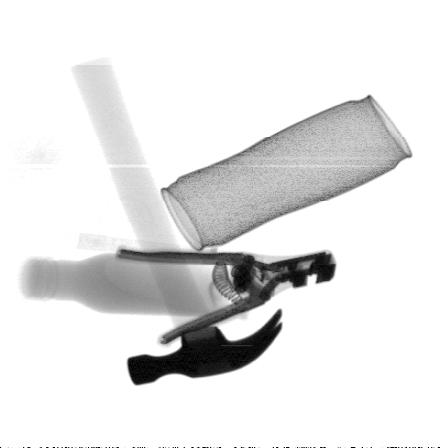Hammer: (69, 56, 284, 388)
Pliers: (114, 247, 337, 346)
